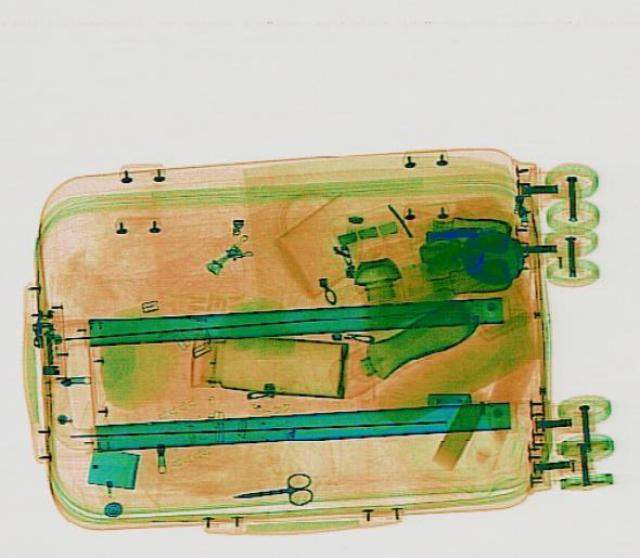Scissors: (223, 467, 317, 513)
